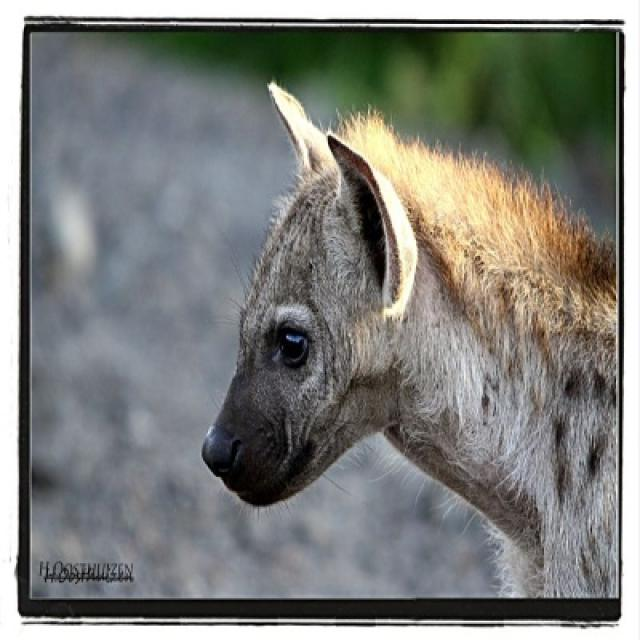hyena: (200, 83, 622, 600)
